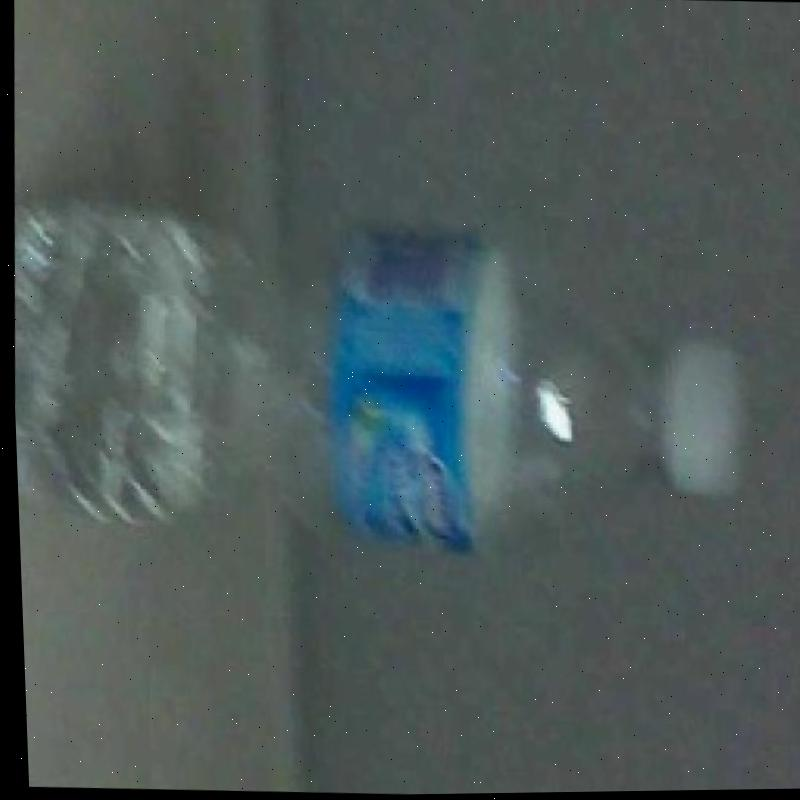botella: (6, 187, 761, 576)
